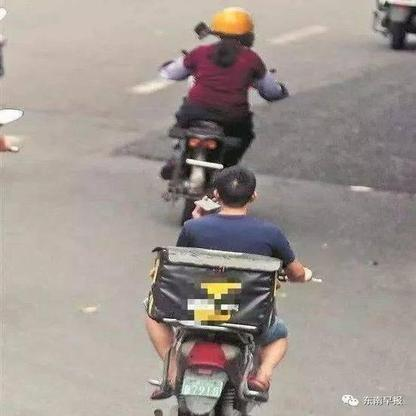target: (144, 164, 328, 412), (148, 6, 294, 213)
